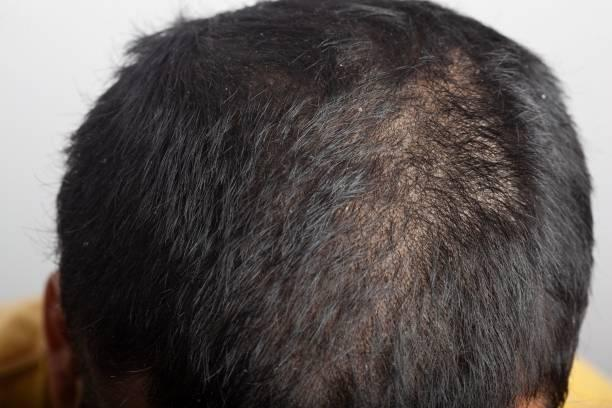dandruff: (80, 240, 97, 255), (284, 202, 296, 221), (95, 156, 114, 165), (255, 27, 268, 40), (538, 92, 552, 104), (356, 103, 366, 115), (221, 85, 232, 95), (336, 61, 345, 69)
